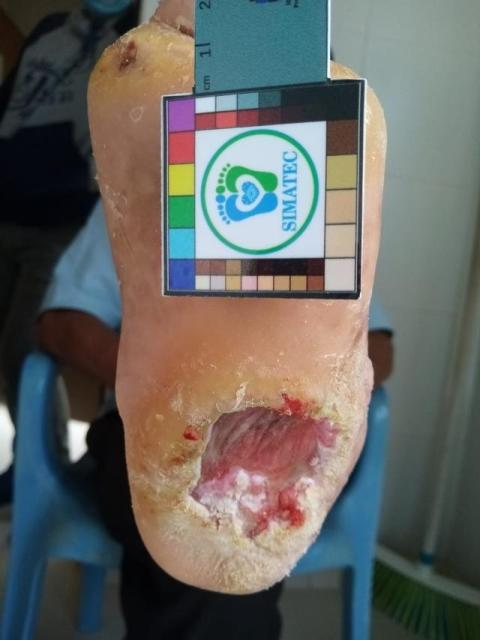wound: (187, 393, 344, 541), (183, 425, 199, 441)
